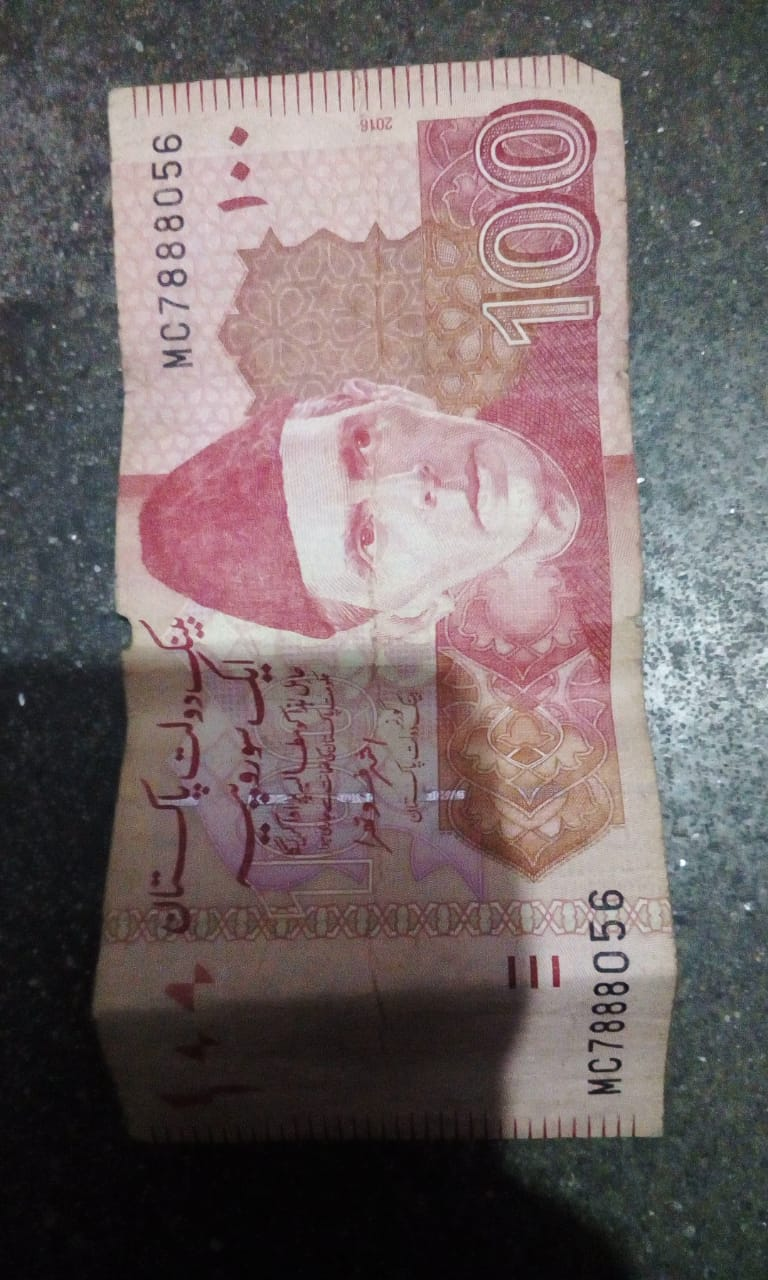100 rupee: (101, 71, 673, 1141)
